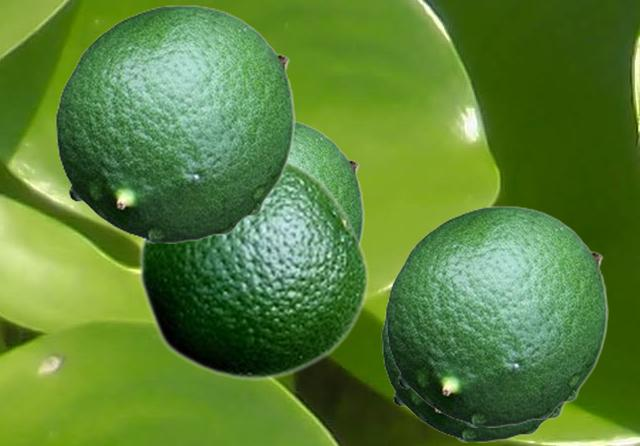calamansi: (55, 4, 294, 242), (137, 158, 369, 381), (385, 205, 607, 426), (381, 309, 568, 441), (290, 118, 363, 244)
